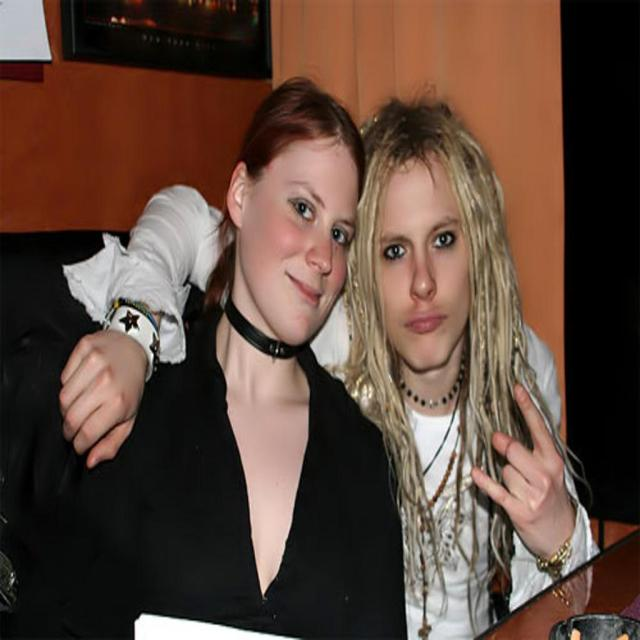Face: (253, 135, 357, 350), (376, 162, 470, 367)
